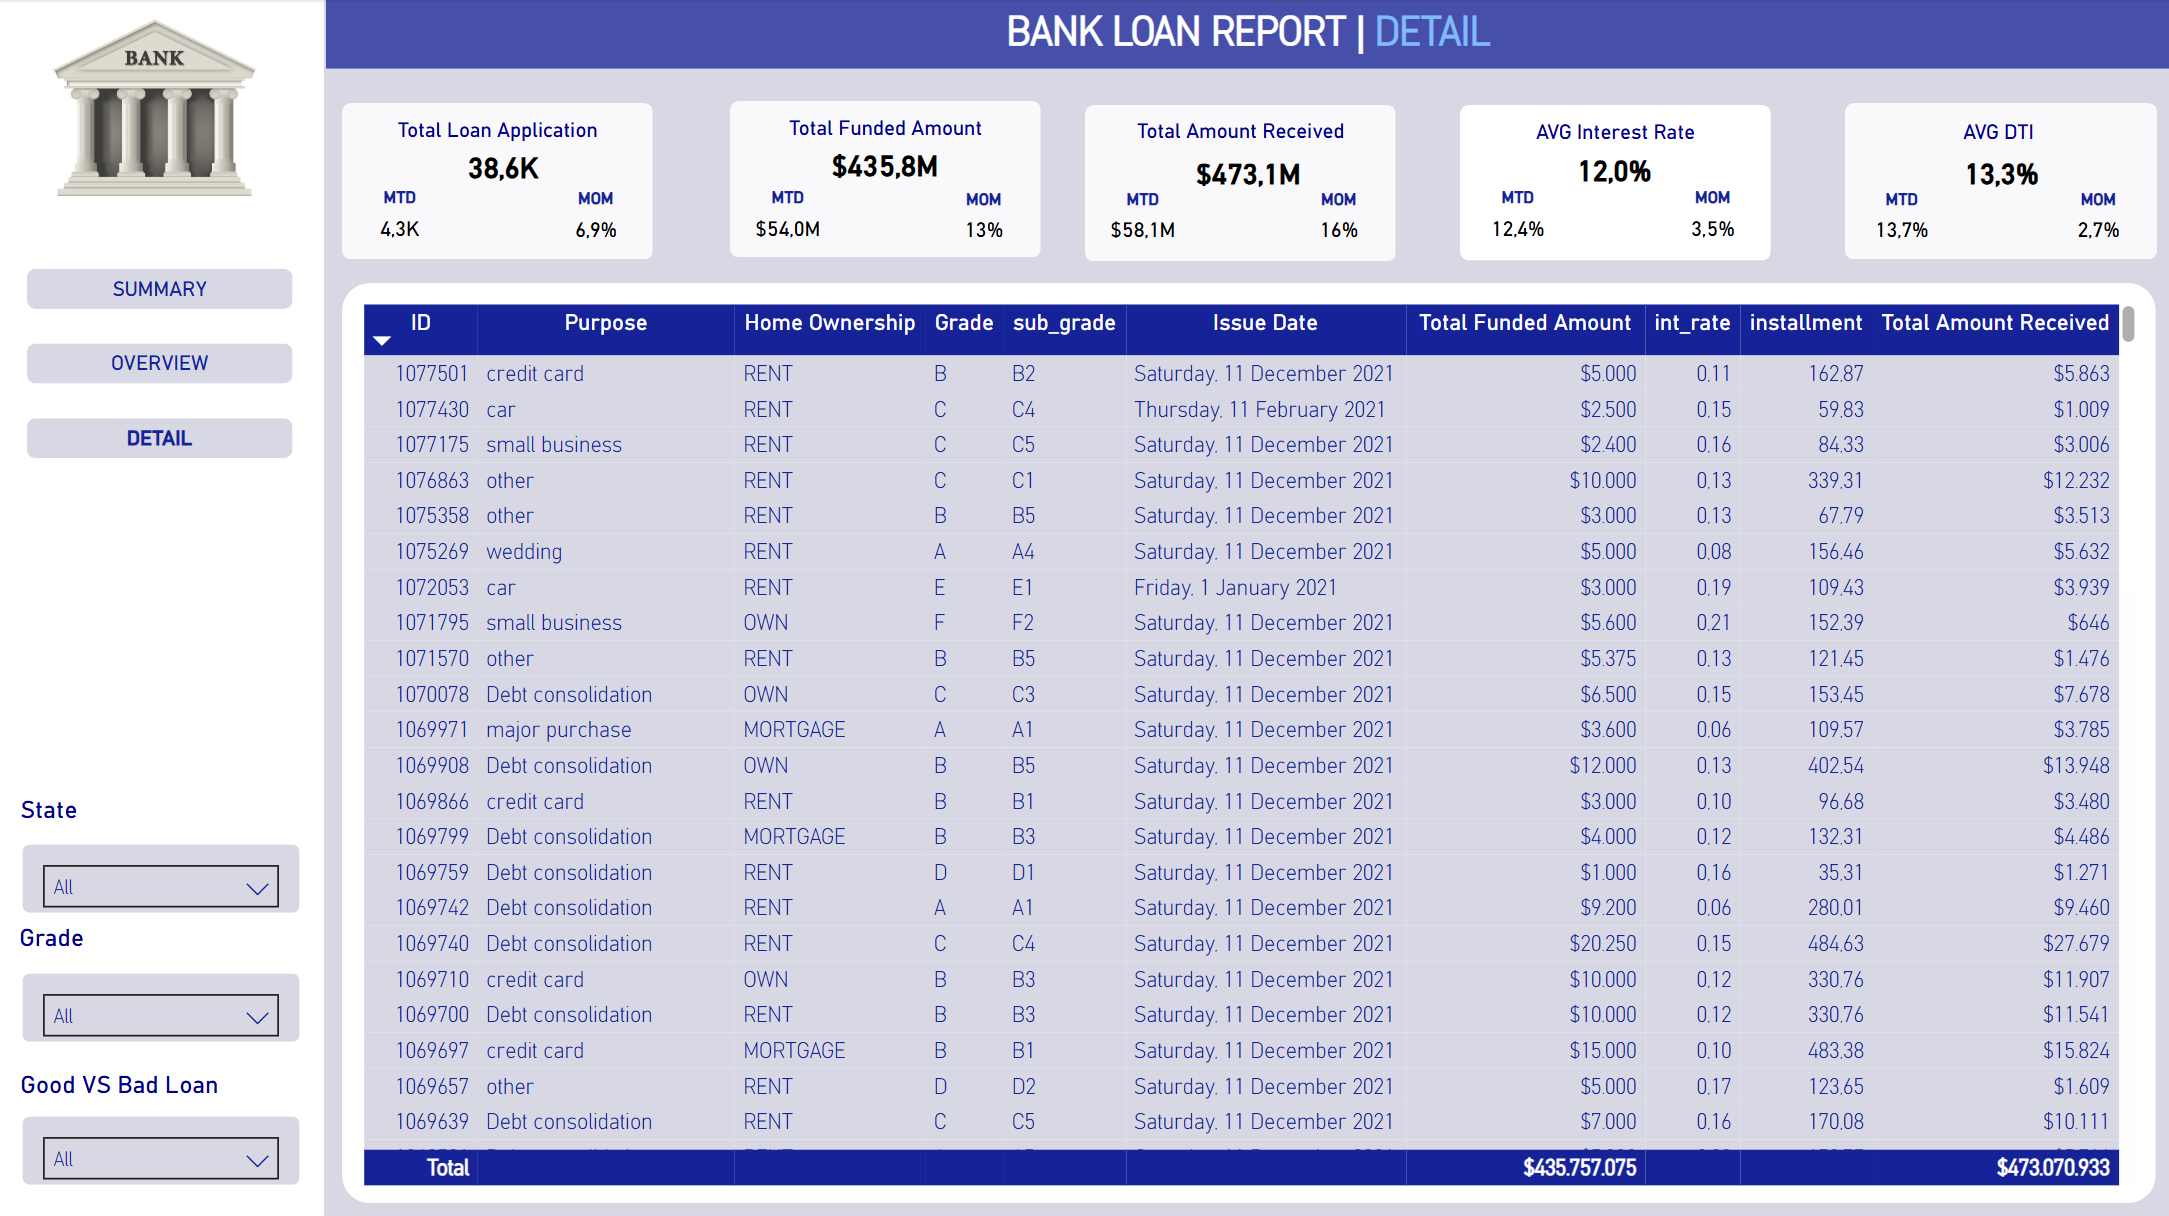

Layout of this report page (visuals, bound fields, positions):
{"tool":"powerbi","page":{"name":"DETAIL","canvas":[1280,720],"ordinal":2},"visuals":[{"type":"shape","box":[202.1,167.4,1068.7,542.2],"z":0},{"type":"shape","box":[0.9,0,191.5,720.2],"z":1000},{"type":"shape","box":[192.4,0,1087.6,41.2],"z":2000},{"type":"textbox","box":[192.7,0,1087.3,41.3],"z":3000},{"type":"slicer","fields":{"Values":["financial_loan.address_state"]},"box":[13.1,497.3,164.9,41.9],"z":4000},{"type":"textbox","box":[7.9,464,70,33.4],"z":5000},{"type":"slicer","fields":{"Values":["financial_loan.grade"]},"box":[13.1,573.3,164.9,41.9],"z":6000},{"type":"slicer","fields":{"Values":["financial_loan.Good VS Bad Loan"]},"box":[13.1,657.7,164.9,41.9],"z":7000},{"type":"textbox","box":[7.2,539.2,70.7,34],"z":8000},{"type":"textbox","box":[7.8,625.4,161.3,32.1],"z":9000},{"type":"tableEx","fields":{"Values":["financial_loan.id","financial_loan.purpose","financial_loan.home_ownership","financial_loan.grade","financial_loan.sub_grade","financial_loan.issue_date","financial_loan.Total Funded Amount","financial_loan.int_rate","financial_loan.installment","financial_loan.Total Amount Received"]},"box":[208.2,175.2,1055.7,539.6],"z":10000},{"type":"image","box":[23.4,6.9,136.2,113.6],"z":11000},{"type":"shape","box":[202.2,61.5,183.2,92.3],"z":12000},{"type":"card","title":"Total Loan Application","fields":{"Values":["financial_loan.total loan application"]},"box":[254.6,85.7,85.1,29.4],"z":13000},{"type":"textbox","box":[202.2,62.2,183.2,26.8],"z":14000},{"type":"card","title":"MTD","fields":{"Values":["financial_loan.MTD LOAN APPLICATION"]},"box":[202,111.3,68,40.7],"z":15000},{"type":"card","title":"MOM","fields":{"Values":["financial_loan.MOM LOAN APPLICATION"]},"box":[317.3,112,68,40],"z":16000},{"type":"shape","box":[430.6,60.2,183.2,92.3],"z":17000},{"type":"card","title":"Total Loan Application","fields":{"Values":["financial_loan.TOTAL FUNDED AMOUNT"]},"box":[481,85.1,82.5,28.8],"z":18000},{"type":"textbox","box":[430.6,61.5,183.2,27.5],"z":19000},{"type":"card","title":"MTD","fields":{"Values":["financial_loan.MTD FUNDED AMOUNT"]},"box":[430.7,111.3,68,40.7],"z":20000},{"type":"card","title":"MOM","fields":{"Values":["financial_loan.MOM TOTAL FUNDED"]},"box":[546,112.7,68,39.3],"z":21000},{"type":"shape","box":[640,62.2,183.2,92.3],"z":22000},{"type":"card","title":"Total Loan Application","fields":{"Values":["financial_loan.TOTAL AMOUNT RECEVIED"]},"box":[698.2,89,75.9,23.6],"z":23000},{"type":"textbox","box":[640,62.8,183.2,28.1],"z":24000},{"type":"card","title":"MTD","fields":{"Values":["financial_loan.MTD Total AMOUNT RECIVED"]},"box":[640,112.7,68,39.3],"z":25000},{"type":"card","title":"MOM","fields":{"Values":["financial_loan.MOM TOTAL amount Received"]},"box":[755.3,112.7,68,39.3],"z":26000},{"type":"shape","box":[860.5,62.2,183.2,91.6],"z":27000},{"type":"card","title":"Total Loan Application","fields":{"Values":["financial_loan.AVG INTRES RATE"]},"box":[912.2,87,79.2,24.9],"z":28000},{"type":"textbox","box":[860.5,63.5,183.2,28.1],"z":29000},{"type":"card","title":"MTD","fields":{"Values":["financial_loan.MTD Total INTREST RATE"]},"box":[860.7,111.3,68,40.7],"z":30000},{"type":"card","title":"MOM","fields":{"Values":["financial_loan.MOM TOTAL intrest rate"]},"box":[976,111.3,68,40.7],"z":31000},{"type":"shape","box":[1087.6,61.5,183.9,92.3],"z":32000},{"type":"card","title":"Total Loan Application","fields":{"Values":["financial_loan.AVG DTI"]},"box":[1144.5,89,70,29.4],"z":33000},{"type":"textbox","box":[1087.6,63.5,183.9,27.5],"z":34000},{"type":"card","title":"MTD","fields":{"Values":["financial_loan.MTD DTI"]},"box":[1087.3,112.7,68,39.3],"z":35000},{"type":"card","title":"MOM","fields":{"Values":["financial_loan.MOM DTI"]},"box":[1202.7,112.7,68.7,39.3],"z":36000},{"type":"pageNavigator","box":[11.3,154,167.3,124],"z":37000}]}

Visuals, with their boxes in screenshot pixels (x1, y1, x2, y2), scaled from the page's 1280x720 canvas onto the 2169x1216 screenshot:
shape: [342, 283, 2153, 1198]
shape: [2, 0, 326, 1215]
shape: [326, 0, 2168, 70]
textbox: [327, 0, 2168, 70]
slicer - financial_loan.address_state: [22, 840, 302, 911]
textbox: [13, 784, 132, 840]
slicer - financial_loan.grade: [22, 968, 302, 1039]
slicer - financial_loan.Good VS Bad Loan: [22, 1111, 302, 1182]
textbox: [12, 911, 132, 968]
textbox: [13, 1056, 287, 1110]
tableEx - financial_loan.id x financial_loan.purpose: [353, 296, 2142, 1207]
image: [40, 12, 270, 204]
shape: [343, 104, 653, 260]
"Total Loan Application" card: [431, 145, 576, 194]
textbox: [343, 105, 653, 150]
"MTD" card: [342, 188, 458, 257]
"MOM" card: [538, 189, 653, 257]
shape: [730, 102, 1040, 258]
"Total Loan Application" card: [815, 144, 955, 192]
textbox: [730, 104, 1040, 150]
"MTD" card: [730, 188, 845, 257]
"MOM" card: [925, 190, 1040, 257]
shape: [1084, 105, 1395, 261]
"Total Loan Application" card: [1183, 150, 1312, 190]
textbox: [1084, 106, 1395, 154]
"MTD" card: [1084, 190, 1200, 257]
"MOM" card: [1280, 190, 1395, 257]
shape: [1458, 105, 1769, 260]
"Total Loan Application" card: [1546, 147, 1680, 189]
textbox: [1458, 107, 1769, 155]
"MTD" card: [1458, 188, 1574, 257]
"MOM" card: [1654, 188, 1769, 257]
shape: [1843, 104, 2155, 260]
"Total Loan Application" card: [1939, 150, 2058, 200]
textbox: [1843, 107, 2155, 154]
"MTD" card: [1842, 190, 1958, 257]
"MOM" card: [2038, 190, 2154, 257]
pageNavigator: [19, 260, 303, 470]
